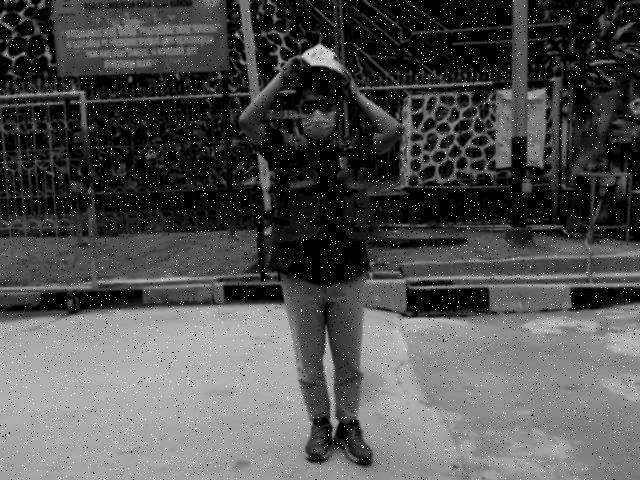helmet: (290, 37, 349, 81)
mask: (300, 110, 336, 142)
safety-shoes: (333, 419, 381, 466), (296, 417, 337, 464)
vest: (269, 164, 381, 243)
